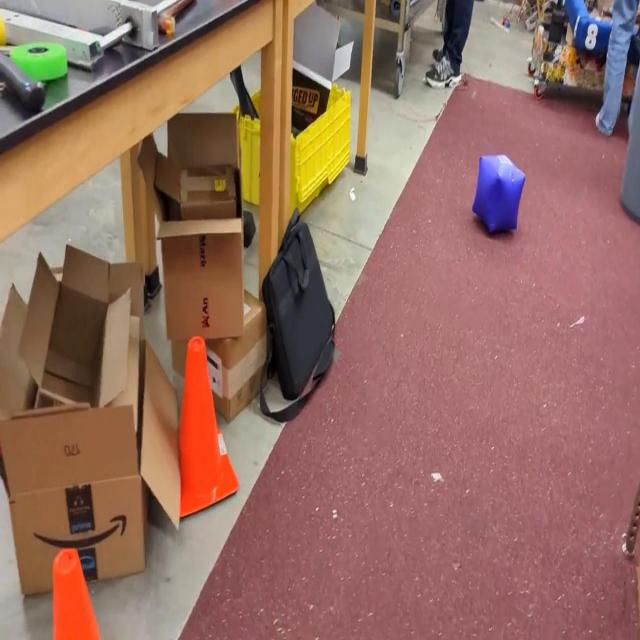frc_cube: (472, 153, 526, 235)
